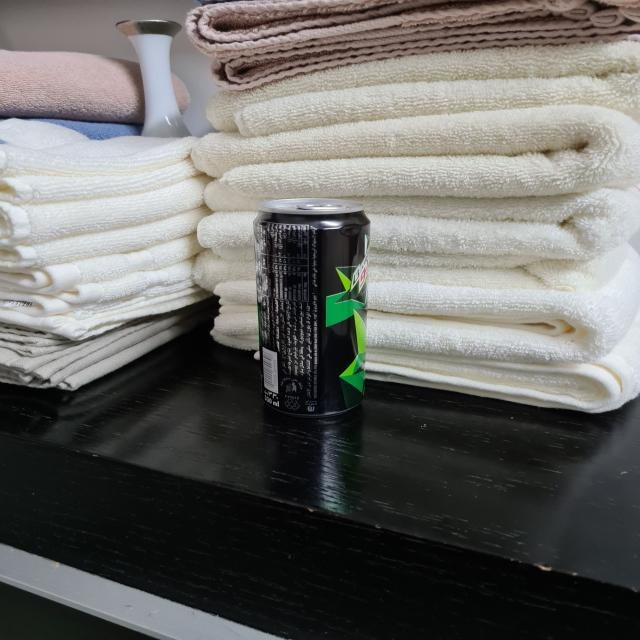non-organic waste: (250, 194, 380, 423)
